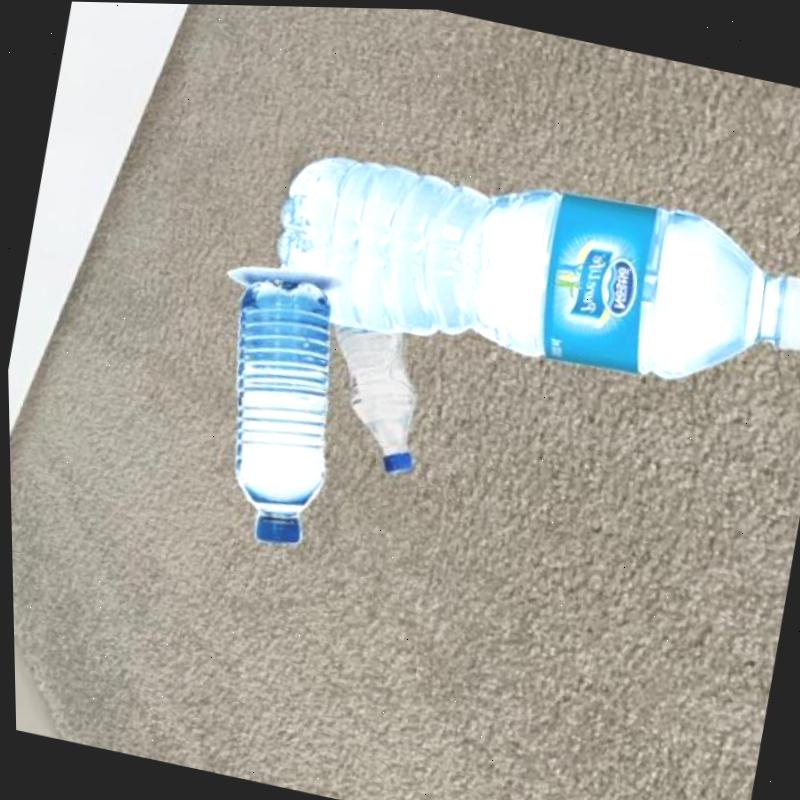botella: (255, 122, 800, 417), (194, 269, 359, 551), (302, 315, 432, 478)
